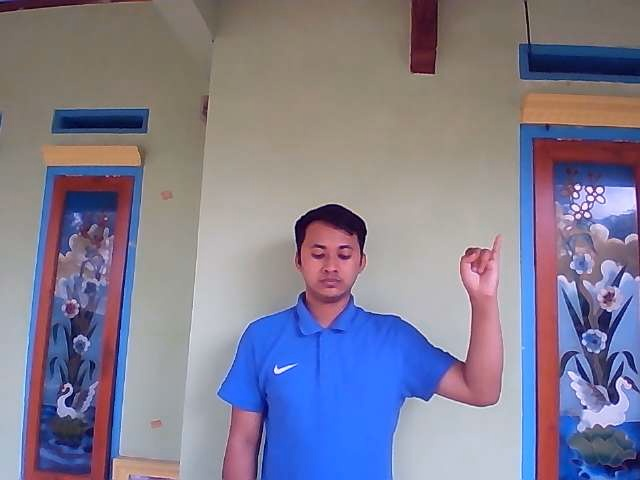I: (458, 234, 503, 294)
